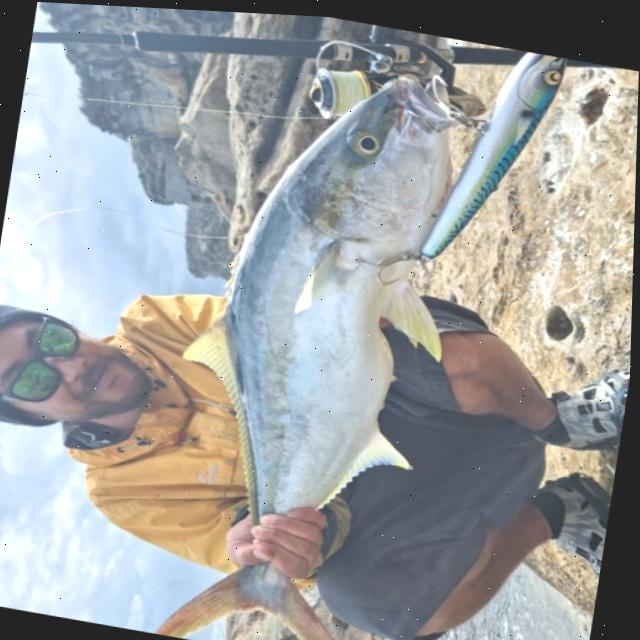Kingfish: (143, 28, 491, 640)
